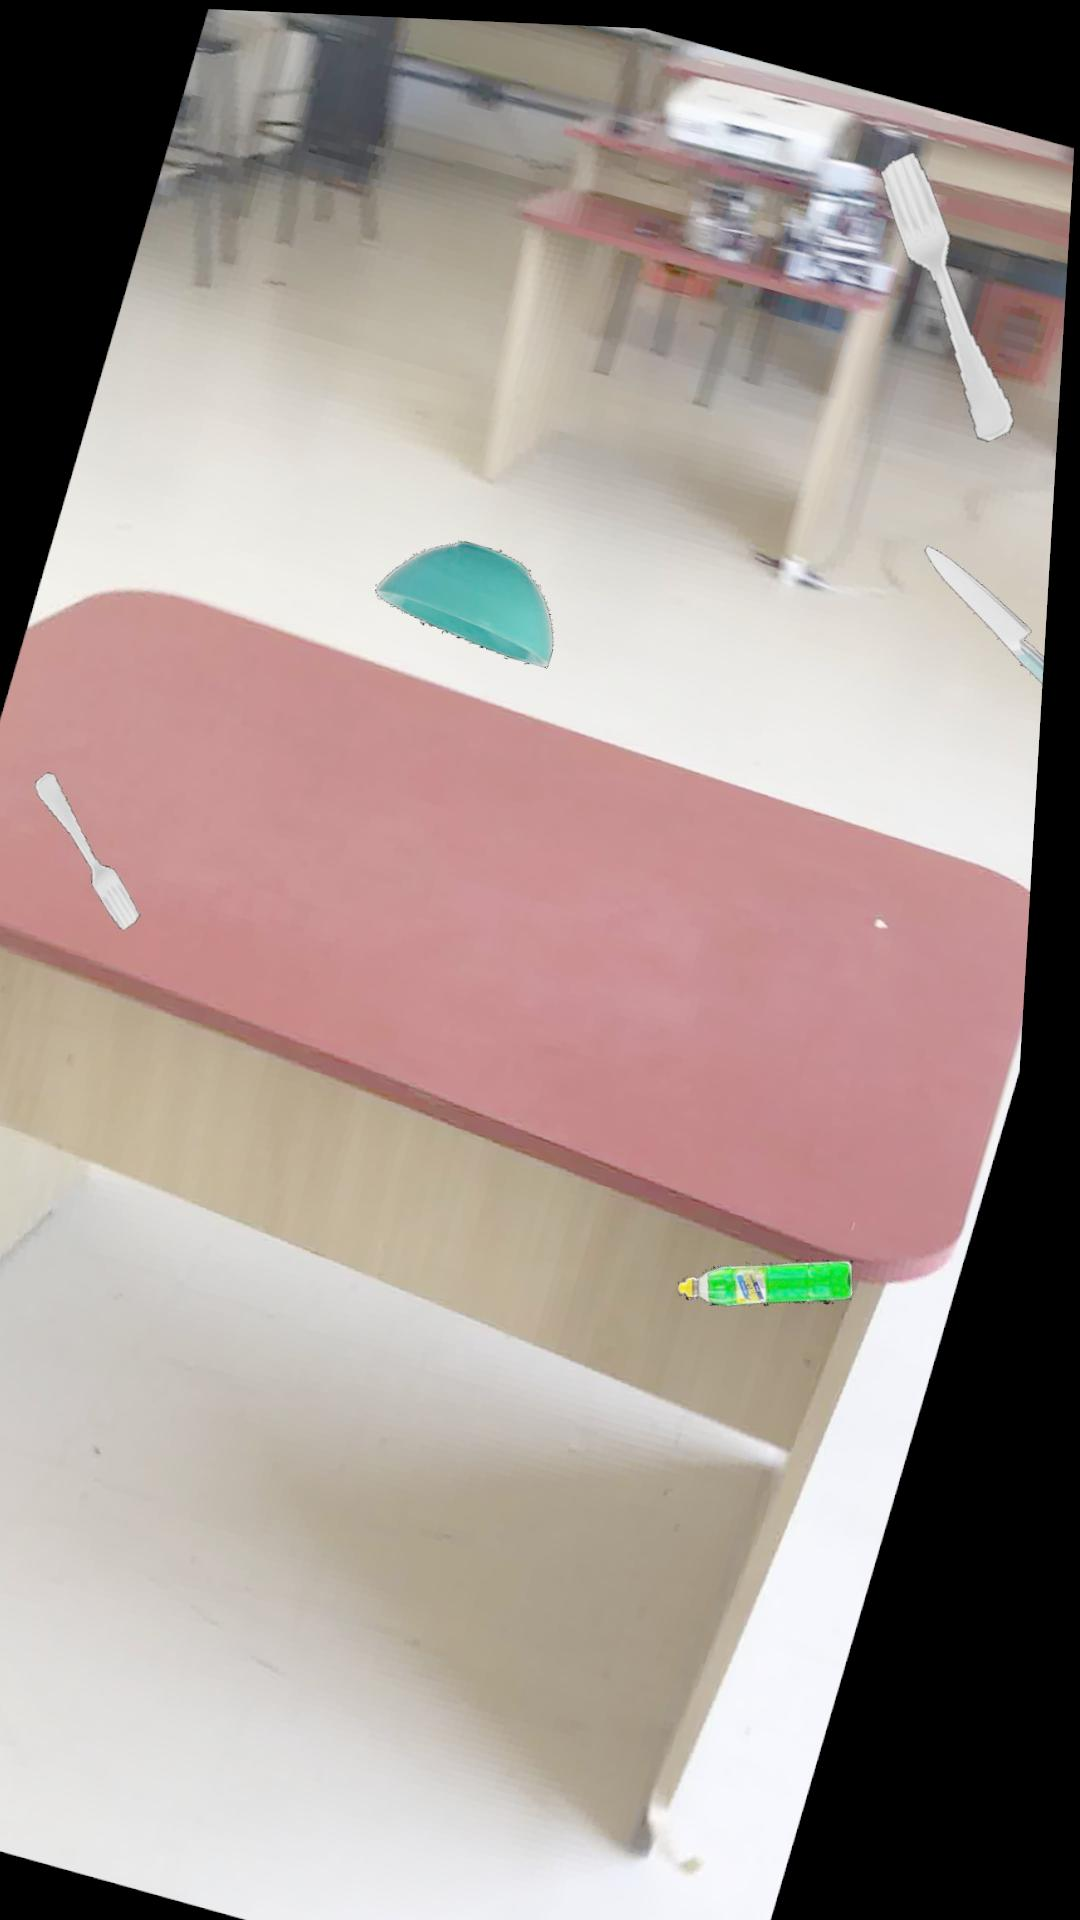bowl: (384, 534, 563, 659)
cleaner: (695, 1249, 870, 1296)
fork: (882, 141, 1021, 430), (46, 769, 153, 926)
knife: (932, 534, 1052, 670)
